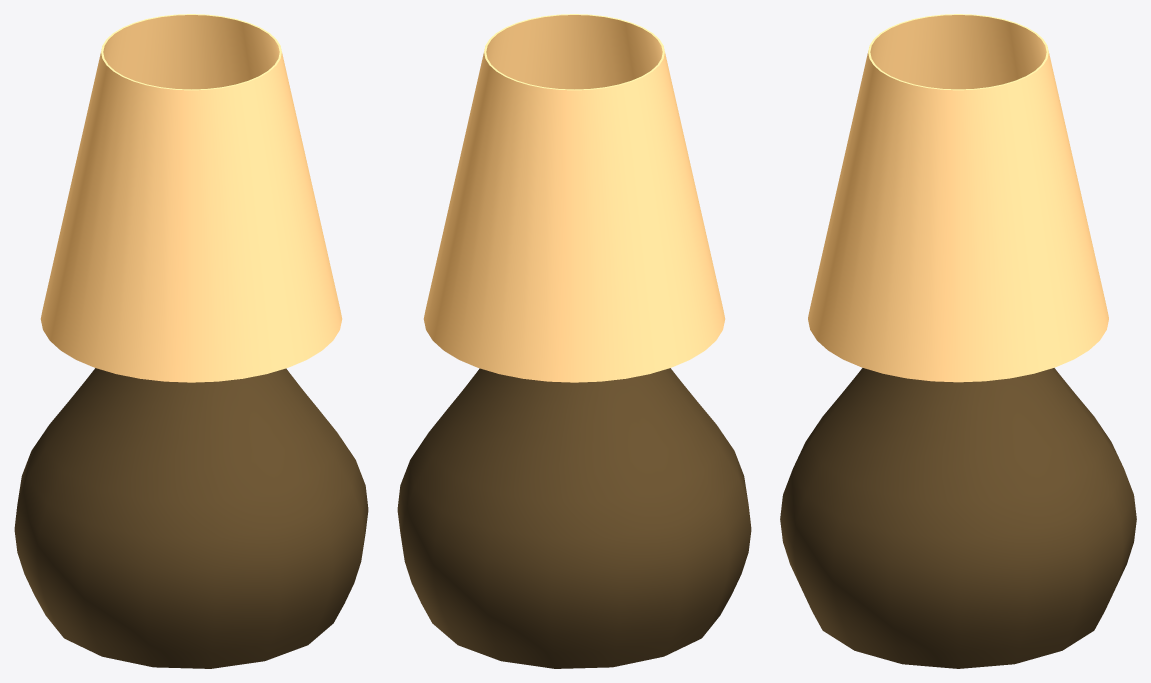
The model's file is Table_Lamp_PearBase_ConeShade.fbx.
The picture shows the model from 3 angles, left to right: view 1: azimuth 30°, elevation 25°; view 2: azimuth 150°, elevation 25°; view 3: azimuth 270°, elevation 25°; orthographic projection.
Visible parts, largest first — view 1: Table_Lamp_PearBase_ConeShade; view 2: Table_Lamp_PearBase_ConeShade; view 3: Table_Lamp_PearBase_ConeShade.
Part boxes in pixels (<box>): Table_Lamp_PearBase_ConeShade: <box>14,14,368,668</box>; Table_Lamp_PearBase_ConeShade: <box>397,14,751,668</box>; Table_Lamp_PearBase_ConeShade: <box>780,14,1136,668</box>.
Bounding box in the file's own units: 36.4 × 62.44 × 36.4.
